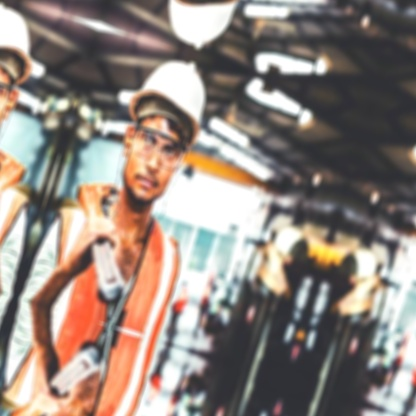vest: (25, 178, 209, 344)
white: (119, 44, 225, 151)
